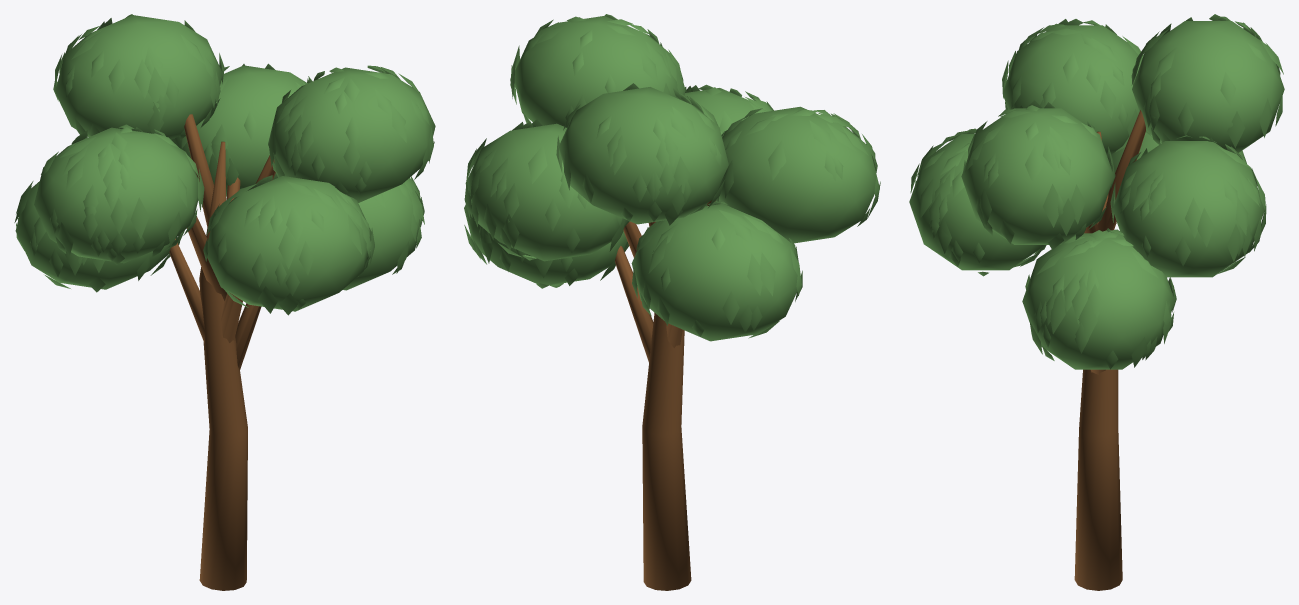
Rendered from SM_Env_Tree_01.fbx.
3 renders of one model, left to right at view 1: azimuth 30°, elevation 25°; view 2: azimuth 150°, elevation 25°; view 3: azimuth 270°, elevation 25°, orthographic.
Visible parts, largest first — view 1: Crown_inner_volume.002, Crown_inner_volume.006, Crown_inner_volume.005, Crown_inner_volume.004, Tree_trunk, Crown_inner_volume.003, Leaves.019, Leaves.017, Leaves.020, Leaves.021, Crown_inner_volume.001, Crown_inner_volume (+8 smaller); view 2: Crown_inner_volume.004, Crown_inner_volume.001, Crown_inner_volume.006, Tree_trunk, Crown_inner_volume.003, Crown_inner_volume.005, Leaves.021, Leaves.016, Leaves.018, Leaves.019, Crown_inner_volume, Leaves.020 (+4 smaller); view 3: Crown_inner_volume.006, Crown_inner_volume.003, Crown_inner_volume.005, Crown_inner_volume, Tree_trunk, Crown_inner_volume.004, Crown_inner_volume.002, Leaves.015, Leaves.020, Leaves.018, Leaves.021, Leaves.019 (+2 smaller).
Boxes of the visible parts, x1,y1,x2,y2 form: Crown_inner_volume.002: [207, 176, 371, 311]; Crown_inner_volume.006: [55, 15, 222, 139]; Crown_inner_volume.005: [268, 67, 435, 202]; Crown_inner_volume.004: [34, 127, 198, 263]; Tree_trunk: [199, 141, 247, 590]; Crown_inner_volume.003: [172, 65, 307, 196]; Leaves.019: [41, 124, 204, 264]; Leaves.017: [203, 175, 374, 315]; Leaves.020: [268, 65, 434, 197]; Leaves.021: [53, 14, 224, 139]; Crown_inner_volume.001: [15, 181, 177, 289]; Crown_inner_volume: [343, 183, 423, 290]; Crown_inner_volume.004: [719, 106, 876, 243]; Crown_inner_volume.001: [631, 204, 801, 341]; Crown_inner_volume.006: [559, 87, 728, 224]; Tree_trunk: [642, 312, 691, 590]; Crown_inner_volume.003: [465, 123, 626, 261]; Crown_inner_volume.005: [514, 16, 679, 127]; Leaves.021: [556, 83, 727, 225]; Leaves.016: [632, 201, 802, 338]; Leaves.018: [464, 119, 628, 260]; Leaves.019: [715, 108, 880, 226]; Crown_inner_volume: [464, 204, 627, 285]; Leaves.020: [510, 14, 685, 124]; Crown_inner_volume.006: [1132, 21, 1284, 152]; Crown_inner_volume.003: [1112, 141, 1264, 277]; Crown_inner_volume.005: [961, 108, 1113, 244]; Crown_inner_volume: [1022, 233, 1174, 369]; Tree_trunk: [1074, 131, 1122, 590]; Crown_inner_volume.004: [1002, 25, 1142, 156]; Crown_inner_volume.002: [909, 134, 1045, 270]; Leaves.015: [1025, 228, 1176, 369]; Leaves.020: [963, 100, 1115, 249]; Leaves.018: [1110, 135, 1266, 273]; Leaves.021: [1131, 14, 1283, 147]; Leaves.019: [1002, 19, 1143, 136].
Size of what is drawn, in the model's own units: 145 by 120 by 190.
